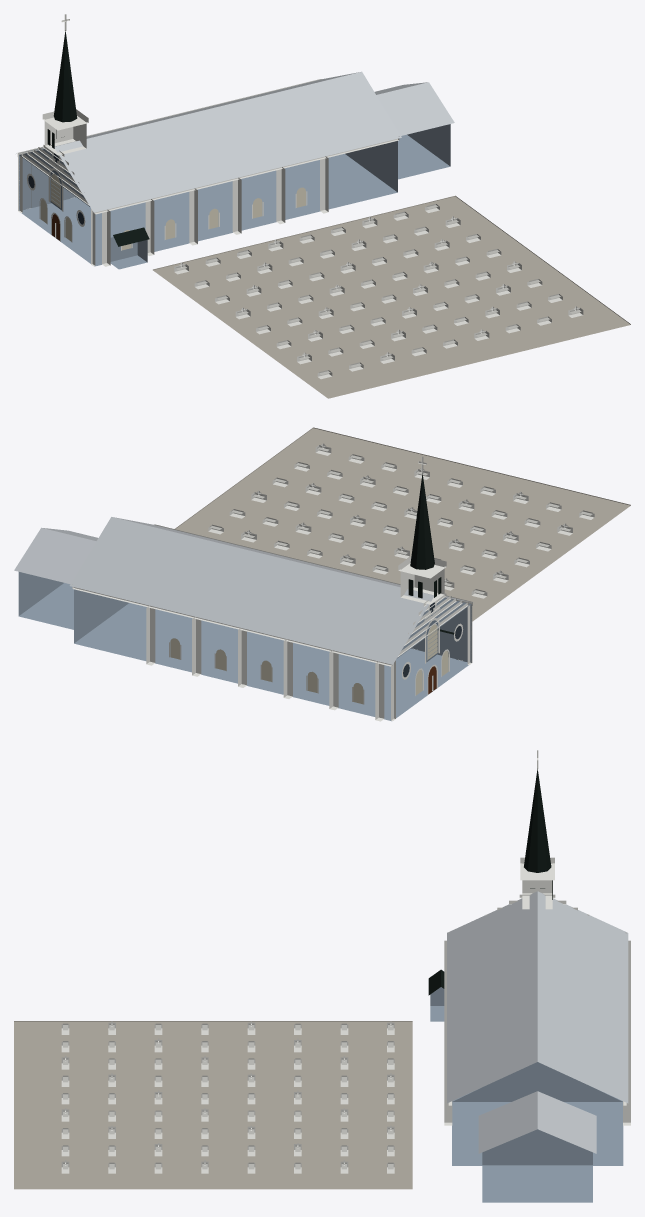
The model's file is santaanna_kerk.glb.
3 renders of one model, top to bottom at view 1: azimuth 30°, elevation 25°; view 2: azimuth 150°, elevation 25°; view 3: azimuth 270°, elevation 25°, orthographic. The views are drawn at different scales.
Parts seen in each view (by area): view 1: santaanna_kerk_lod0; view 2: santaanna_kerk_lod0; view 3: santaanna_kerk_lod0.
Part boxes in pixels (bbox=[...]): santaanna_kerk_lod0: bbox=[16, 14, 630, 398]; santaanna_kerk_lod0: bbox=[14, 427, 630, 721]; santaanna_kerk_lod0: bbox=[14, 750, 630, 1202].
Size of what is drawn, in the model's own units: 55.55 by 31.28 by 69.05.
